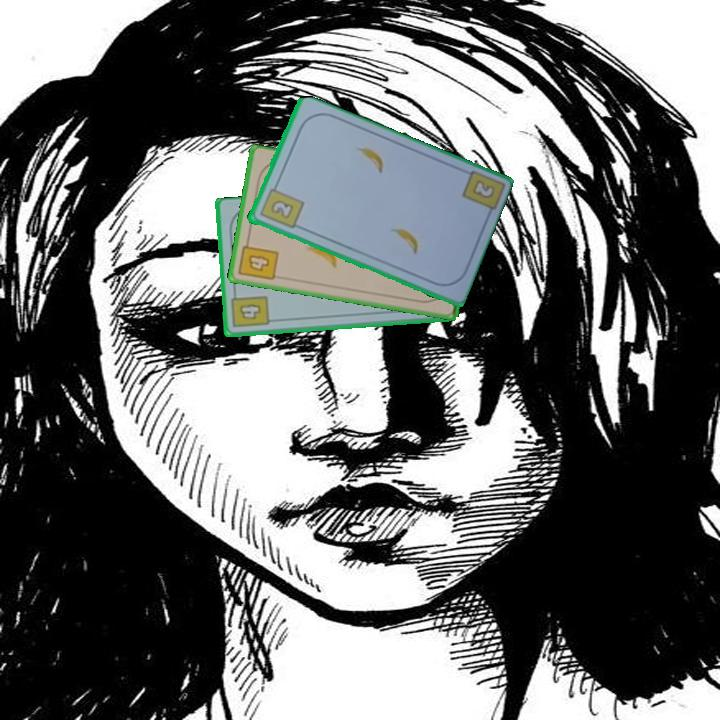2b: (256, 180, 306, 232), (471, 179, 495, 200)
4b: (235, 235, 281, 284), (228, 288, 272, 330)
